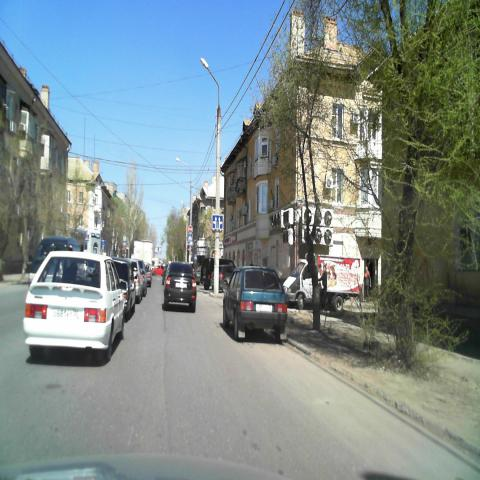5_15_2_2: (212, 214, 224, 230)
